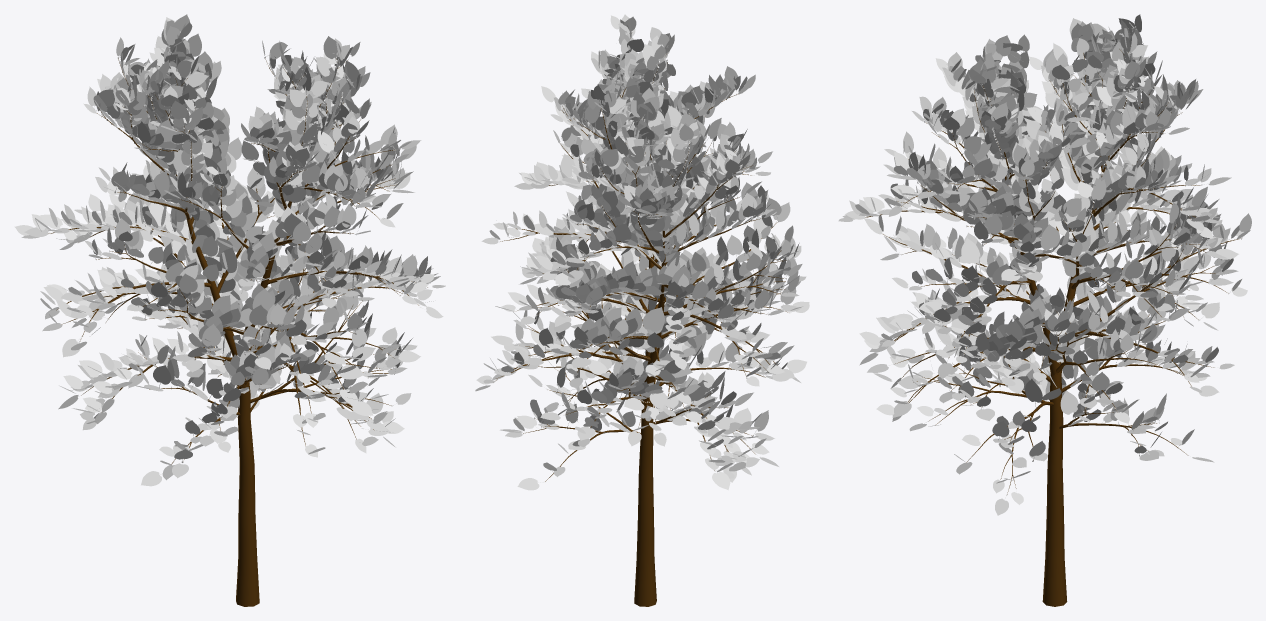
The model's file is BirchTree1.fbx.
3 views of the same model, side by side, from view 1: azimuth 30°, elevation 25°; view 2: azimuth 150°, elevation 25°; view 3: azimuth 270°, elevation 25° (orthographic). The views are drawn at different scales.
Visible parts, largest first — view 1: tree, leaves; view 2: tree, leaves; view 3: tree, leaves.
Part boxes in pixels (box(x1,y1,x2,y2)): tree: box(48, 58, 427, 606); leaves: box(49, 56, 421, 462); tree: box(496, 38, 787, 606); leaves: box(494, 31, 790, 482); tree: box(865, 46, 1240, 606); leaves: box(866, 46, 1242, 495).
Bounding box in the file's own units: 1017 × 1667 × 1095.
